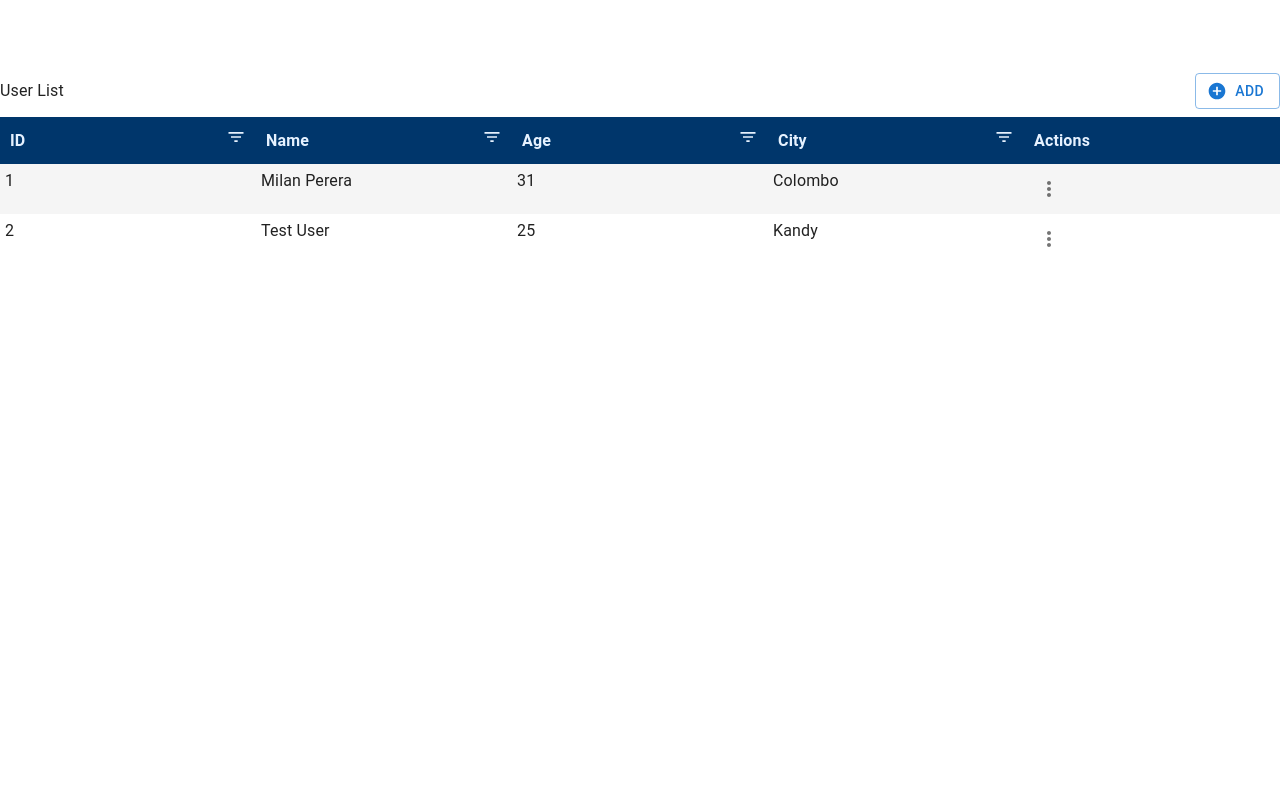
Test case: DataGrid Component › opens add user dialog on button click
This screenshot has width=1280, height=800.
What coordinates should you click on to do the following:
click the button "Add"
I would click on:
 (1238, 91)
Its box is [1195, 73, 1279, 109].
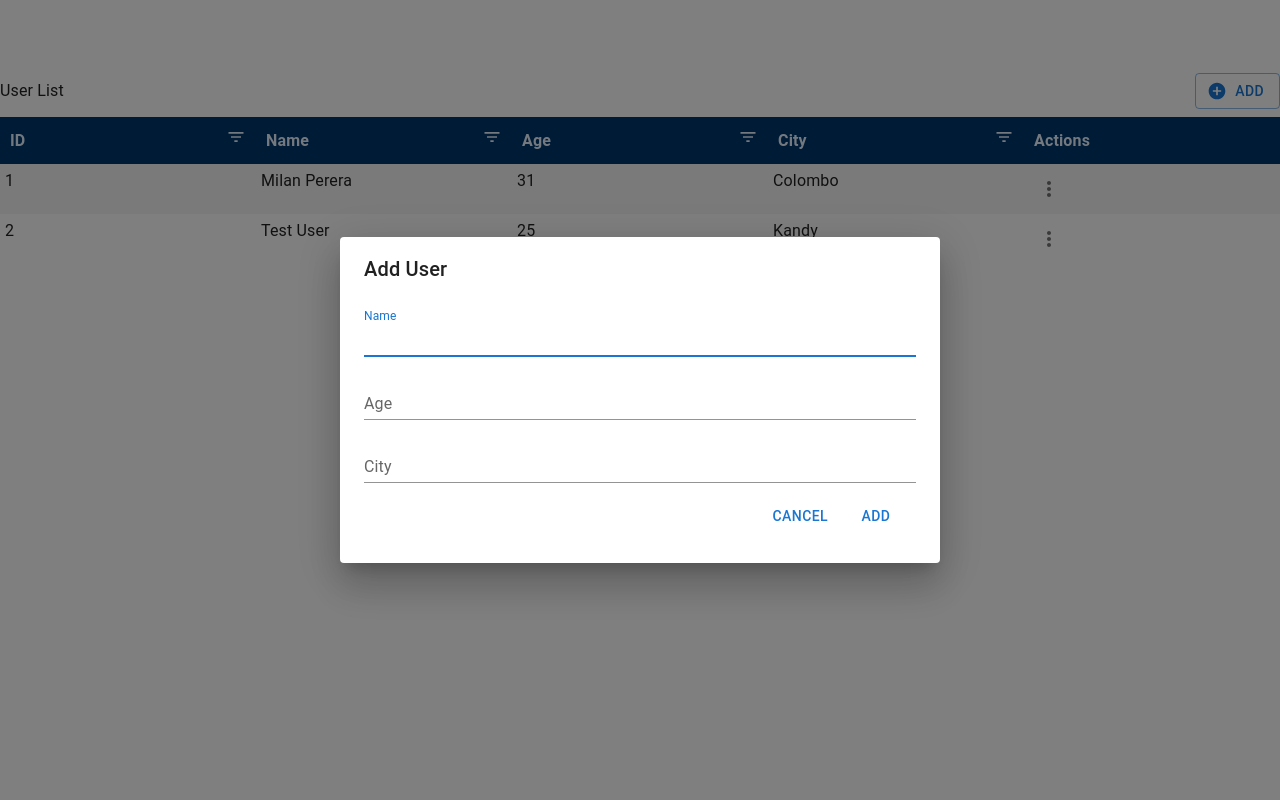
Check: the dialog is shown, box [340, 237, 940, 563]
